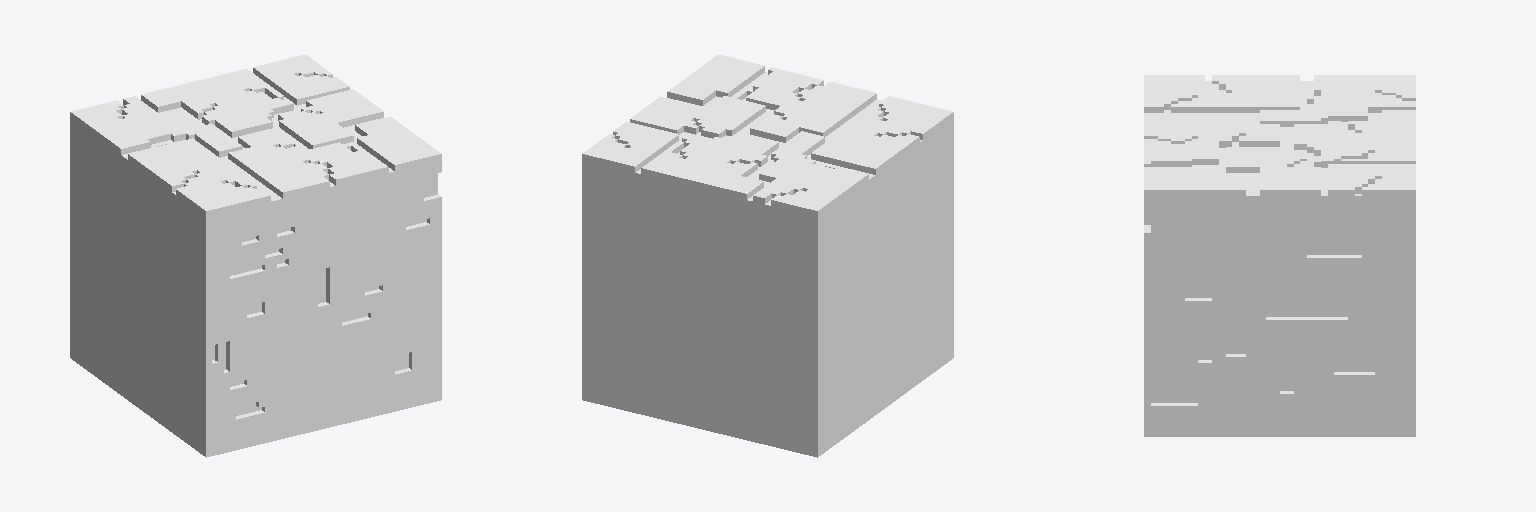
The model's file is pol_base.obj.
The picture shows the model from 3 angles: view 1: azimuth 30°, elevation 25°; view 2: azimuth 150°, elevation 25°; view 3: azimuth 270°, elevation 25°; orthographic projection.
Visible parts, largest first — view 1: object 1; view 2: object 1; view 3: object 1.
Part boxes in pixels (x1,y1,x2,y2): object 1: (70,54,441,457); object 1: (582,54,953,457); object 1: (1144,75,1415,436).
Bounding box in the file's own units: 4 × 4 × 4.